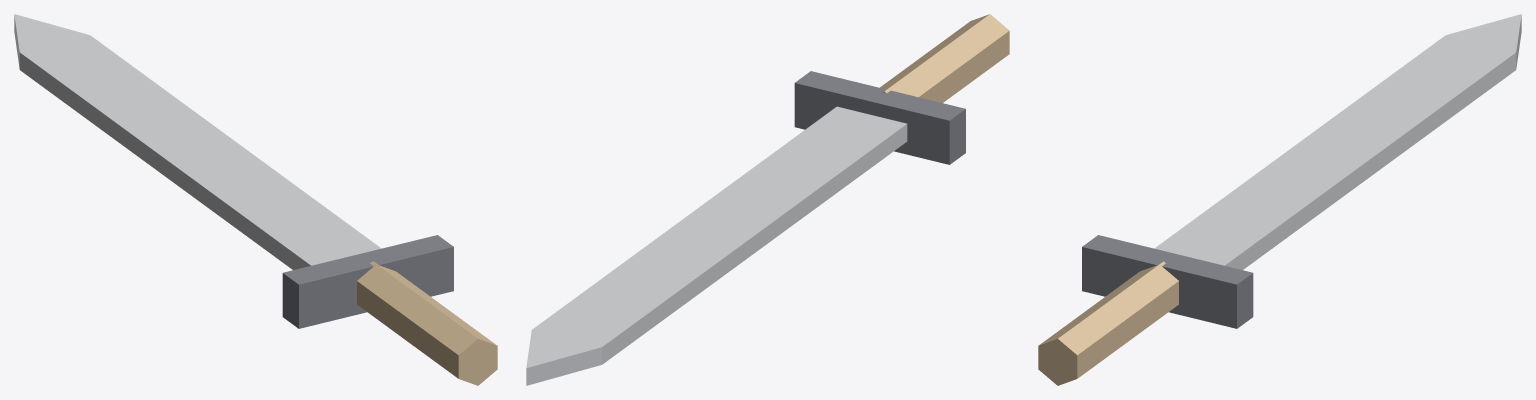
Rendered from iron_sword_held.gltf.
3 views of the same model, side by side, from view 1: azimuth 30°, elevation 25°; view 2: azimuth 150°, elevation 25°; view 3: azimuth 330°, elevation 25° (orthographic).
Parts seen in each view (by area): view 1: furnace_iron_sword_held; view 2: furnace_iron_sword_held; view 3: furnace_iron_sword_held.
Part boxes in pixels (x1,y1,x2,y2): furnace_iron_sword_held: [14, 14, 497, 385]; furnace_iron_sword_held: [526, 14, 1009, 385]; furnace_iron_sword_held: [1038, 14, 1521, 385].
Size of the model in its own units: 0.11 by 0.032 by 0.57.
